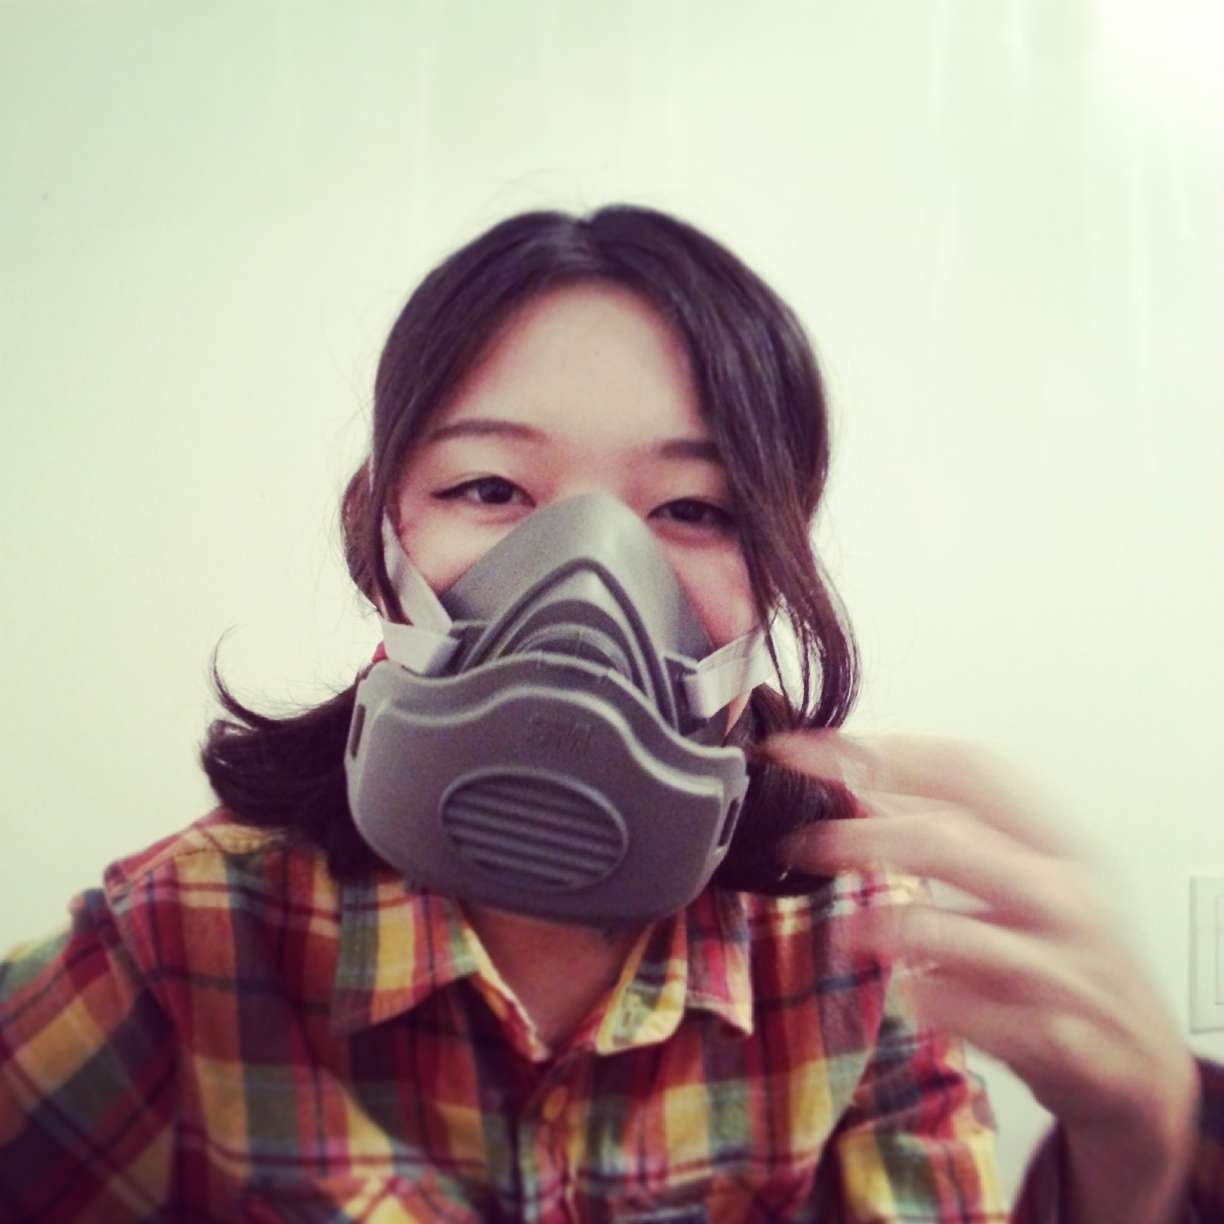face_mask: (382, 271, 779, 839)
